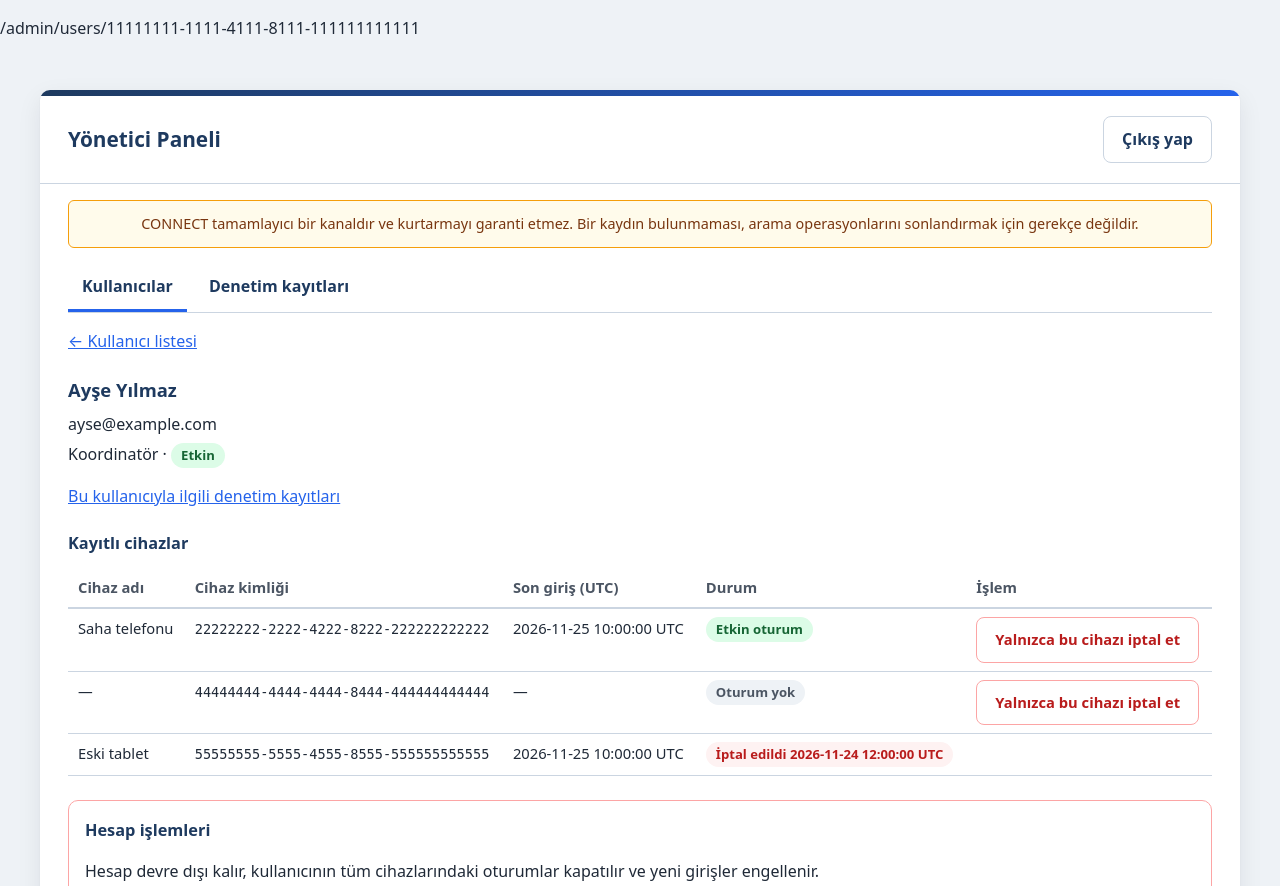
Scenario: UserDevicesPage › reports an already revoked device; a 404 stays in the dialog
The width and height of the screenshot is (1280, 886).
Click the button with aria-label "Yalnızca bu cihazı iptal et: Saha telefonu" at x=1088, y=640, box x1=976 y1=617 x2=1199 y2=663
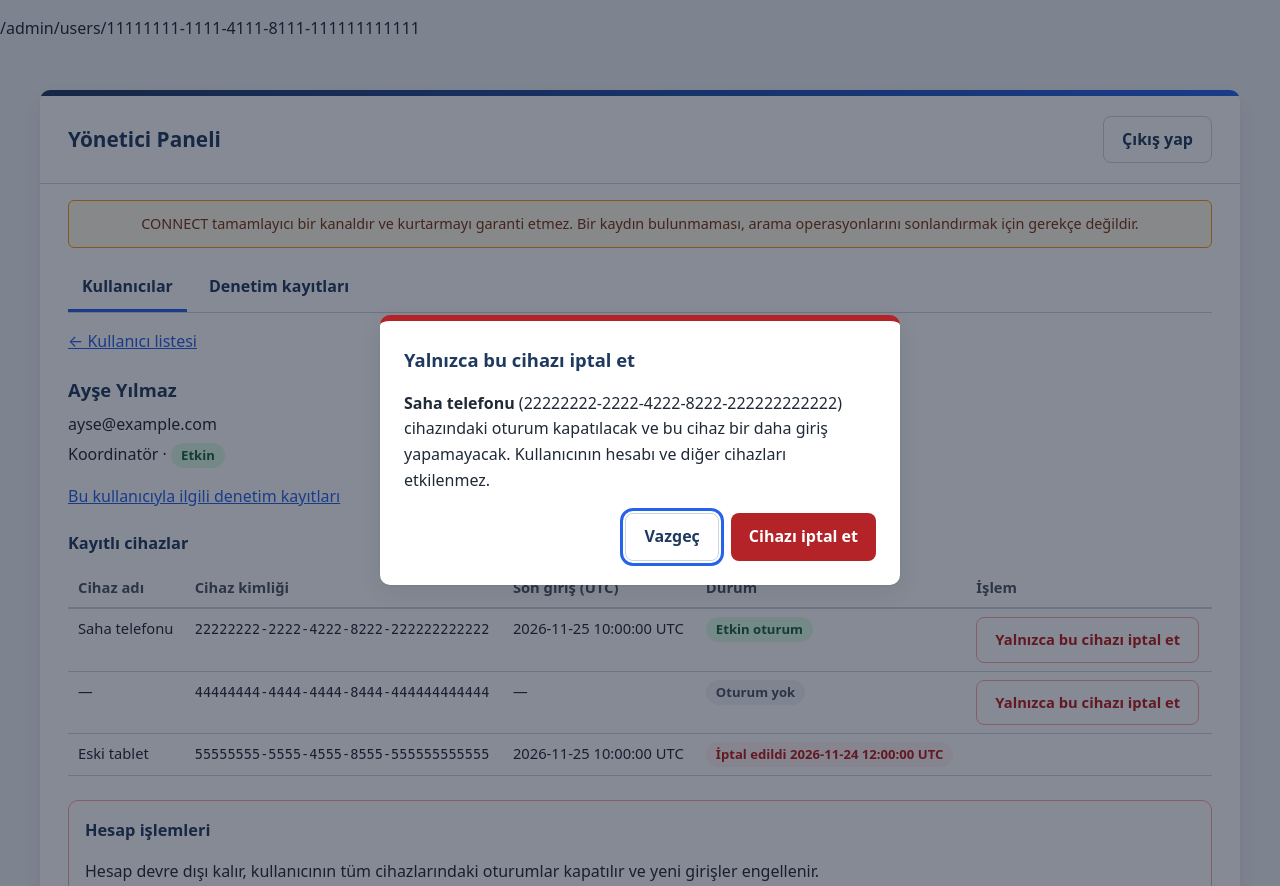
Click the button "Cihazı iptal et" at x=803, y=537, box x1=731 y1=513 x2=876 y2=561
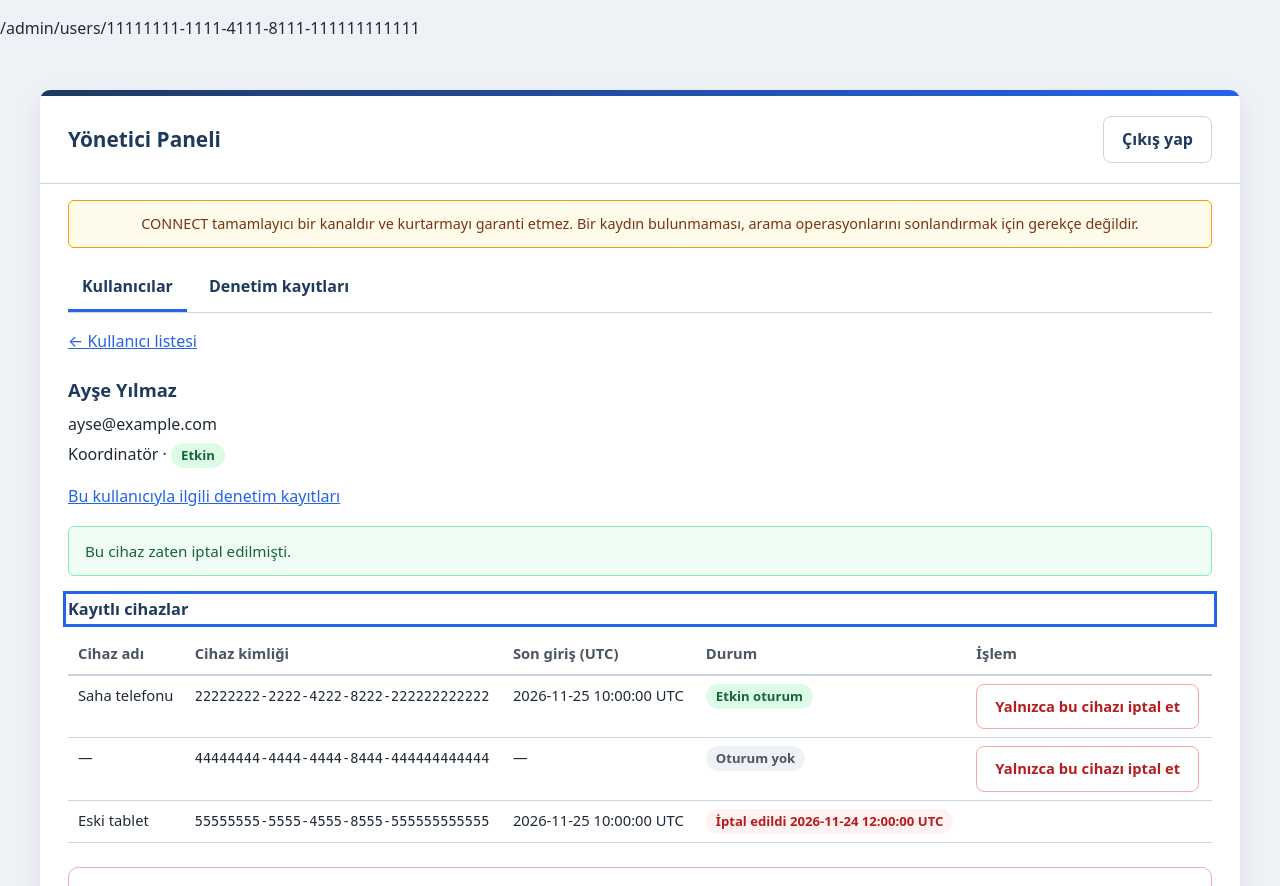
Expected: the text "Bu cihaz zaten iptal edilmişti." is shown, x1=68 y1=526 x2=1212 y2=576
Click the button with aria-label "Yalnızca bu cihazı iptal et: Saha telefonu" at x=1088, y=706, box x1=976 y1=684 x2=1199 y2=729
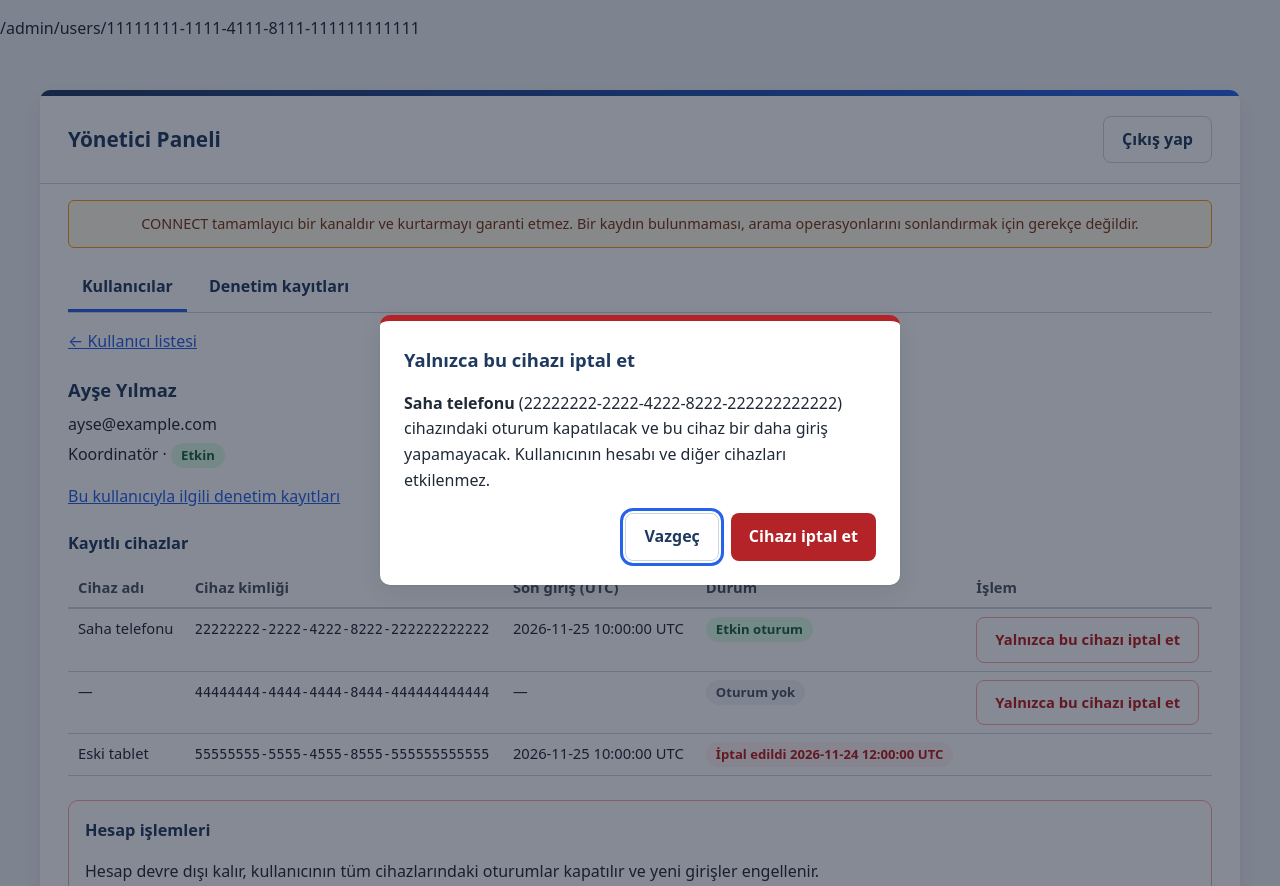
Click the button "Cihazı iptal et" at x=803, y=537, box x1=731 y1=513 x2=876 y2=561
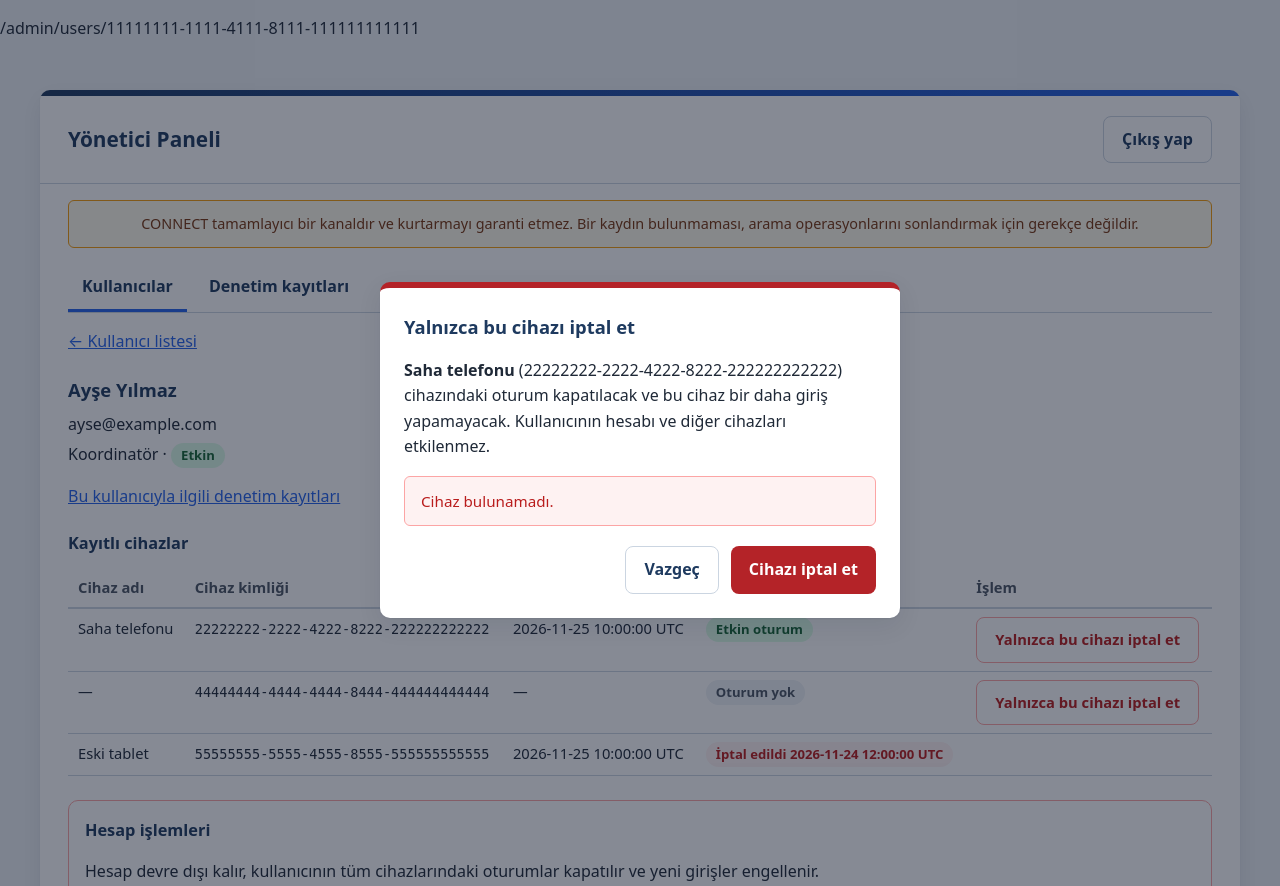
Expected: the message reads "Cihaz bulunamadı.", x1=421 y1=491 x2=554 y2=511
